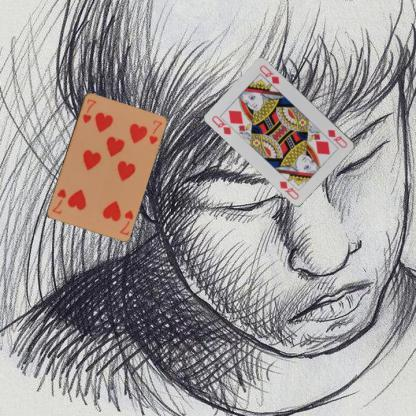7h: (116, 207, 134, 236), (80, 96, 98, 124)
Qd: (209, 112, 238, 136), (326, 127, 348, 149)
